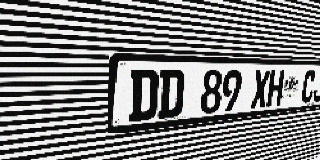8: (200, 70, 224, 114)
9: (220, 70, 243, 112)
C: (300, 70, 317, 103)
D: (129, 69, 159, 122), (157, 69, 185, 119)
H: (266, 70, 285, 107)
J: (312, 70, 320, 102)
X: (250, 70, 270, 109)
